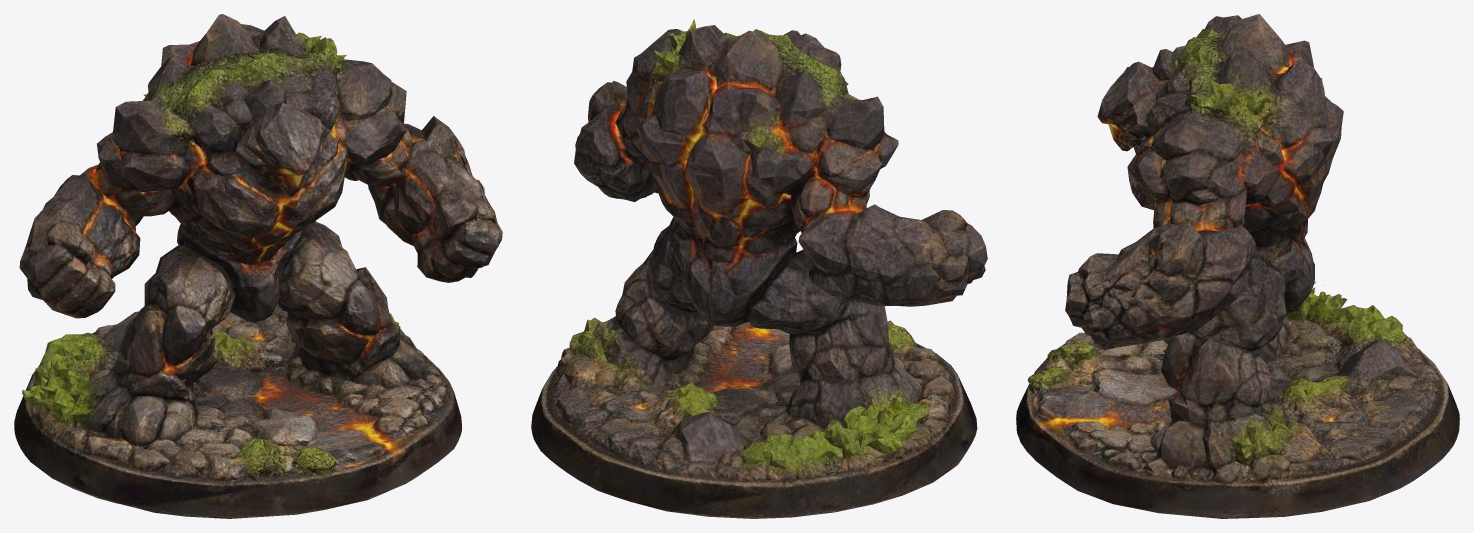
The model's file is elemental_earth_golem_lod0.glb.
The picture shows the model from 3 angles, left to right: view 1: azimuth 30°, elevation 25°; view 2: azimuth 150°, elevation 25°; view 3: azimuth 270°, elevation 25°; orthographic projection.
Visible parts, largest first — view 1: elemental_earth_golem_lod0; view 2: elemental_earth_golem_lod0; view 3: elemental_earth_golem_lod0.
Boxes of the visible parts, x1,y1,x2,y2 form: elemental_earth_golem_lod0: [14, 14, 502, 518]; elemental_earth_golem_lod0: [531, 19, 987, 518]; elemental_earth_golem_lod0: [1016, 14, 1459, 518].
Size of the model in its own units: 2.59 by 2.4 by 2.36.
Materials: 1 (1 with a texture image).
